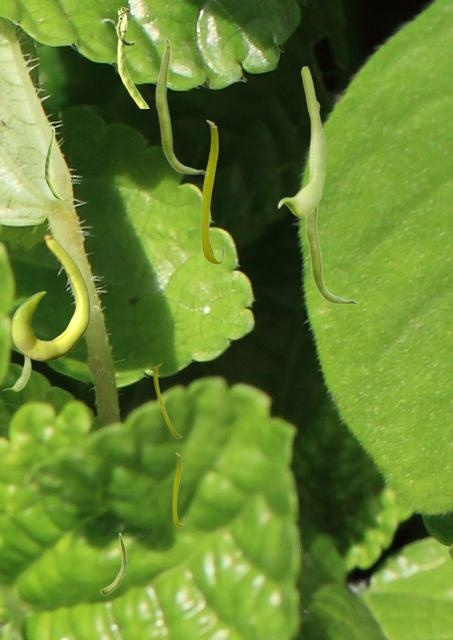french_bean: (10, 234, 89, 360), (154, 37, 208, 175), (277, 65, 325, 216), (304, 204, 358, 305), (200, 119, 223, 264), (116, 7, 148, 107), (153, 363, 181, 437), (45, 125, 67, 199), (100, 532, 126, 594), (2, 356, 30, 390), (172, 452, 183, 526)
